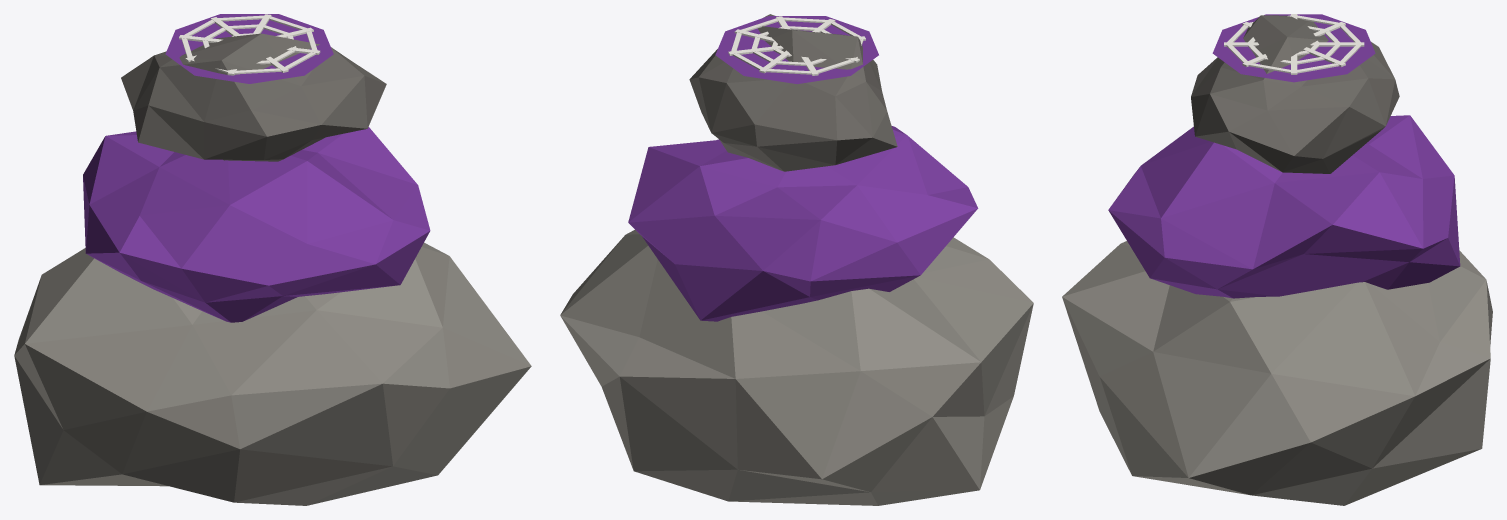
File: marker_tisseuses.glb
3 renders of one model, left to right at view 1: azimuth 30°, elevation 25°; view 2: azimuth 150°, elevation 25°; view 3: azimuth 270°, elevation 25°, orthographic. The views are drawn at different scales.
Visible parts, largest first — view 1: pebble_0, pebble_2, pebble_4, marker_tisseuses, group_7; view 2: pebble_0, pebble_2, pebble_4, marker_tisseuses, group_7; view 3: pebble_0, pebble_2, pebble_4, marker_tisseuses, group_7.
Boxes of the visible parts, x1,y1,x2,y2 form: pebble_0: (14, 242, 531, 505); pebble_2: (83, 127, 430, 322); pebble_4: (121, 33, 386, 161); marker_tisseuses: (165, 14, 333, 83); group_7: (179, 14, 320, 75); pebble_0: (560, 230, 1033, 505); pebble_2: (628, 126, 978, 321); pebble_4: (689, 14, 897, 171); marker_tisseuses: (715, 16, 878, 84); group_7: (728, 16, 865, 75); pebble_0: (1062, 241, 1492, 505); pebble_2: (1108, 115, 1460, 298); pebble_4: (1191, 15, 1399, 173); marker_tisseuses: (1212, 14, 1375, 82); group_7: (1224, 14, 1364, 74).
Size of the model in its own units: 7.63 by 7.49 by 6.76.
